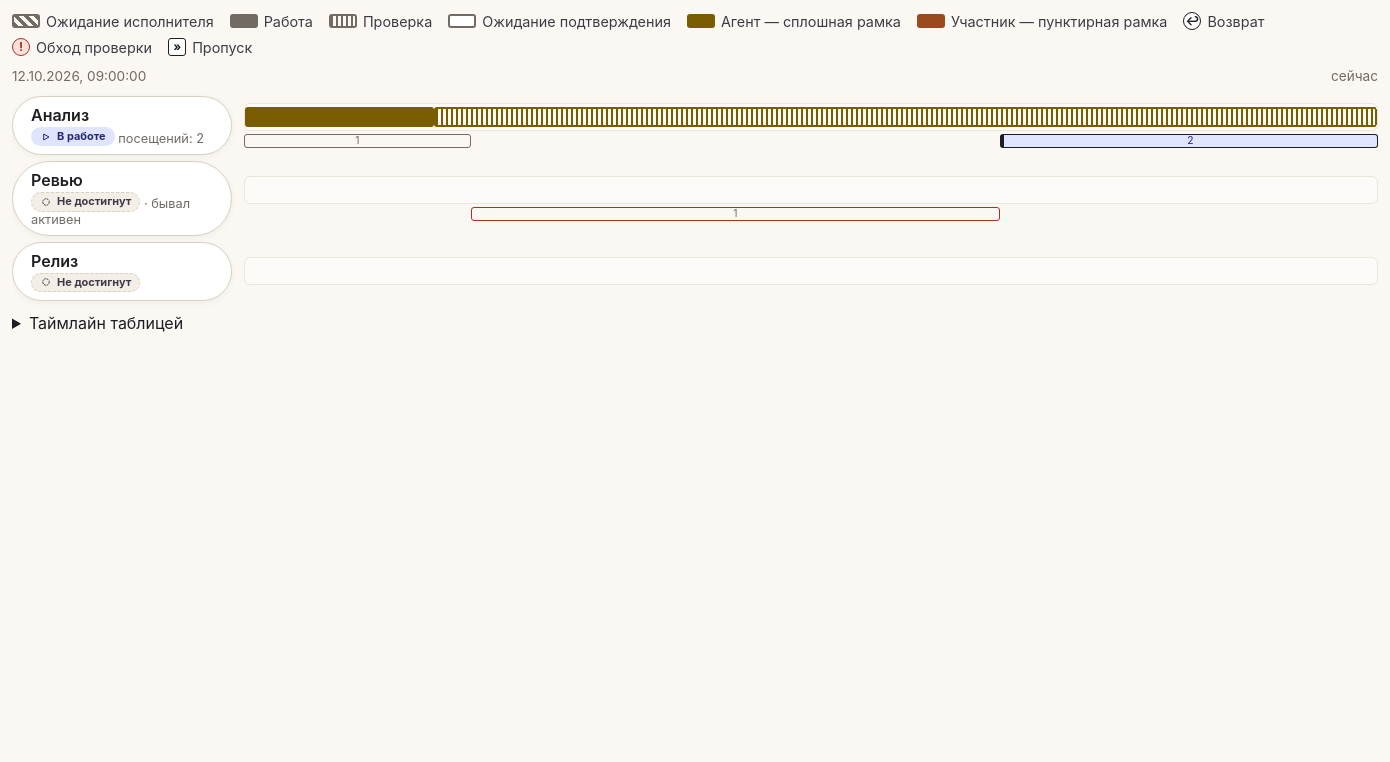
Test: TaskTimeline stage statuses and visits (S11) › lists the visits in the stage card
Step 1. Click the button "Анализ В работе посещений: 2" → (122, 126), box x1=12 y1=96 x2=232 y2=155
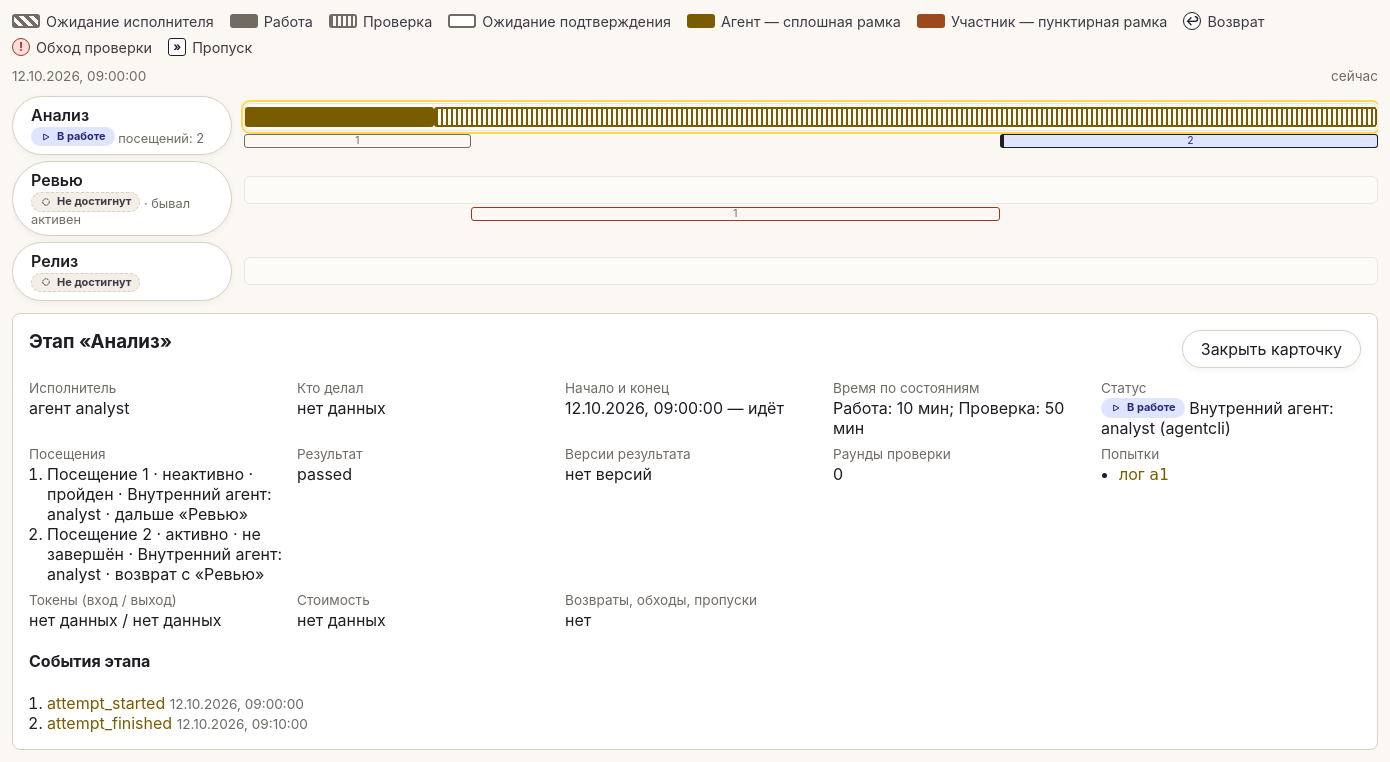
Now the list item "Посещение 1 · неактивно · пройден" is shown, box x1=47 y1=464 x2=272 y2=524
Now the list item "Посещение 2 · активно · не завершён" is shown, box x1=47 y1=524 x2=282 y2=584
